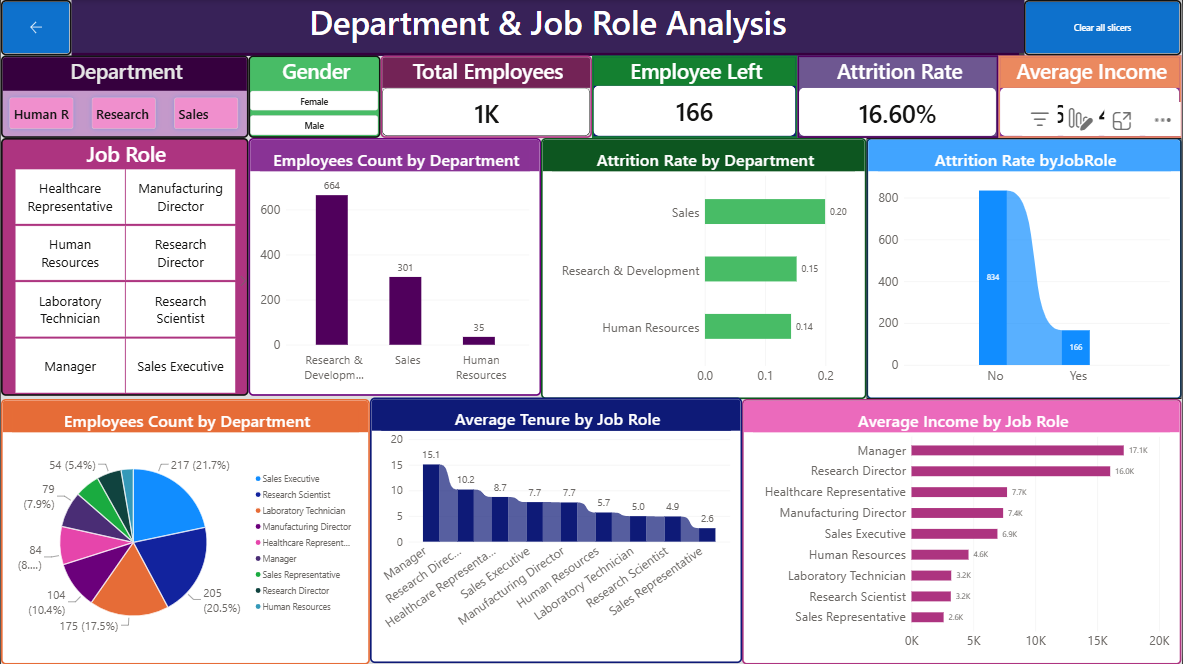

The page's visual inventory and layout, read from the dashboard file:
{"tool":"powerbi","page":{"name":"Department & Job Role Analysis","canvas":[1920,1080],"ordinal":2},"visuals":[{"type":"textbox","title":"Department & Job Role Analysis","box":[114.7,0,1549.3,90.3],"z":0},{"type":"cardVisual","title":"Total Employees","fields":{"Data":["HR_Cleaned.Total Employees"]},"box":[617.3,90.3,344,134.2],"z":1},{"type":"cardVisual","title":"Employee Left","fields":{"Data":["HR_Cleaned.Employees Left"]},"box":[961.3,90.3,334.3,134.2],"z":2},{"type":"cardVisual","title":"Attrition Rate","fields":{"Data":["HR_Cleaned.Attrition Rate"]},"box":[1295.5,90.3,326.9,134.2],"z":3},{"type":"cardVisual","title":"Average Income","fields":{"Data":["HR_Cleaned.Average Income"]},"box":[1622.5,90.3,297.7,134.2],"z":4},{"type":"advancedSlicerVisual","fields":{"Values":["HR_Cleaned.Department"]},"box":[0,90.3,402.6,134.2],"z":5},{"type":"slicer","title":"Job Role","fields":{"Values":["HR_Cleaned.JobRole"]},"box":[0,224.5,402.6,419.6],"z":6},{"type":"advancedSlicerVisual","fields":{"Values":["HR_Cleaned.Gender"]},"box":[402.6,90.3,214.7,134.2],"z":7},{"type":"clusteredColumnChart","title":"Employees Count by Department","fields":{"Category":["HR_Cleaned.Department"],"Y":["HR_Cleaned.Total Employees"]},"box":[402.6,224.5,475.8,419.6],"z":8},{"type":"clusteredBarChart","title":"Attrition Rate by Department","fields":{"Category":["HR_Cleaned.Department"],"Y":["HR_Cleaned.Attrition Rate"]},"box":[878.3,224.5,529.4,424.5],"z":9},{"type":"pieChart","title":"Employees Count by Department","fields":{"Category":["HR_Cleaned.JobRole"],"Y":["HR_Cleaned.Total Employees"]},"box":[0,649,600.2,431.8],"z":10},{"type":"ribbonChart","title":"Attrition Rate byJobRole","fields":{"Y":["CountNonNull(HR_Cleaned.JobRole)"],"Category":["HR_Cleaned.Attrition"]},"box":[1407.8,224.5,512.4,424.5],"z":11},{"type":"clusteredBarChart","title":"Average Income by Job Role","fields":{"Category":["HR_Cleaned.JobRole"],"Y":["HR_Cleaned.Average Income"]},"box":[1205.3,649,714.9,431.8],"z":12},{"type":"columnChart","title":"Average Tenure by Job Role","fields":{"Category":["HR_Cleaned.JobRole"],"Y":["HR_Cleaned.Average Years at Company"]},"box":[600.2,646.6,605.1,431.8],"z":13},{"type":"actionButton","box":[1664,0,256.2,90.3],"z":14},{"type":"actionButton","box":[0,0,114.7,90.3],"z":15}]}

Visuals, with their boxes in screenshot pixels (x1, y1, x2, y2), scaled from the page's 1920x1080 canvas onto the 1183x664 screenshot:
"Department & Job Role Analysis" textbox: bbox=[71, 0, 1025, 56]
"Total Employees" cardVisual: bbox=[380, 56, 592, 138]
"Employee Left" cardVisual: bbox=[592, 56, 798, 138]
"Attrition Rate" cardVisual: bbox=[798, 56, 1000, 138]
"Average Income" cardVisual: bbox=[1000, 56, 1182, 138]
advancedSlicerVisual - HR_Cleaned.Department: bbox=[0, 56, 248, 138]
"Job Role" slicer: bbox=[0, 138, 248, 396]
advancedSlicerVisual - HR_Cleaned.Gender: bbox=[248, 56, 380, 138]
"Employees Count by Department" clusteredColumnChart: bbox=[248, 138, 541, 396]
"Attrition Rate by Department" clusteredBarChart: bbox=[541, 138, 867, 399]
"Employees Count by Department" pieChart: bbox=[0, 399, 370, 663]
"Attrition Rate byJobRole" ribbonChart: bbox=[867, 138, 1182, 399]
"Average Income by Job Role" clusteredBarChart: bbox=[743, 399, 1182, 663]
"Average Tenure by Job Role" columnChart: bbox=[370, 398, 743, 663]
actionButton: bbox=[1025, 0, 1182, 56]
actionButton: bbox=[0, 0, 71, 56]
